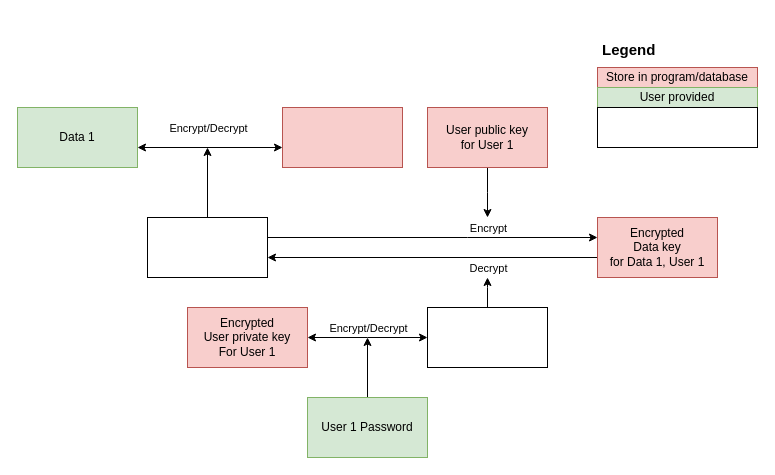
Some shapes in this 775 by 475 pixel diagram are drawn without their labels. Each missing label, with the centre of its shape:
Data key for Data 1: the point at 207,247
Encrypted Data 1: the point at 342,137
Store in memory, deleted when it's unneeded.: the point at 677,127
User private key for User 1: the point at 487,337
